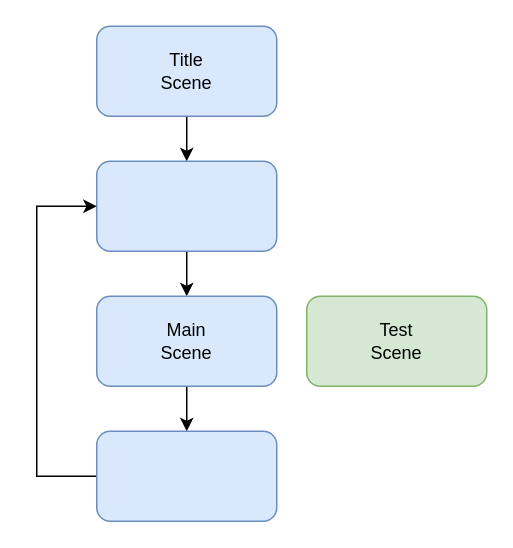
Image size: 513x548. Some labels were removed from this diagram. Here are the shapes that lost their labels. From the top down, the centre of each, then its label:
At [186,205]: "Tutorial Notes".
At [186,475]: "Game Over, Final Score and Retry".
